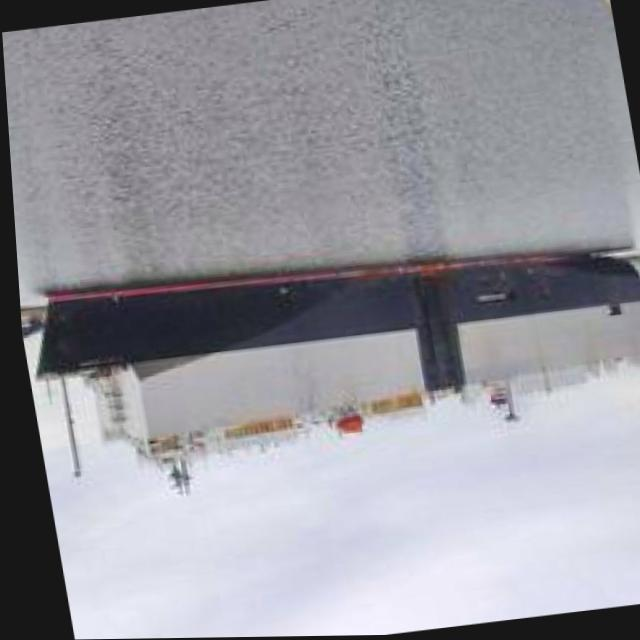ship2: (29, 252, 640, 490)
